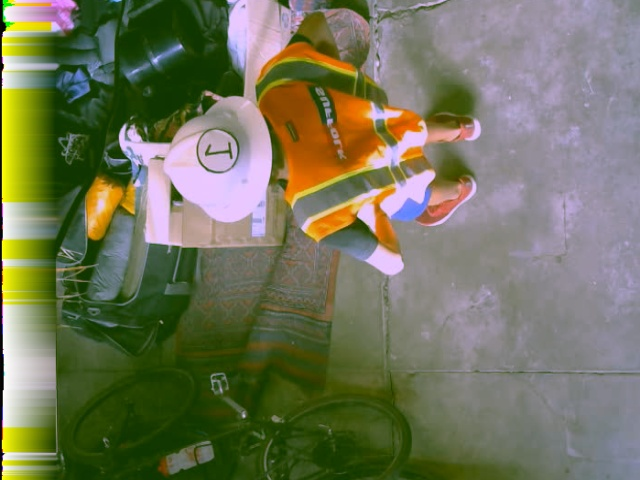one: (196, 128, 238, 171)
